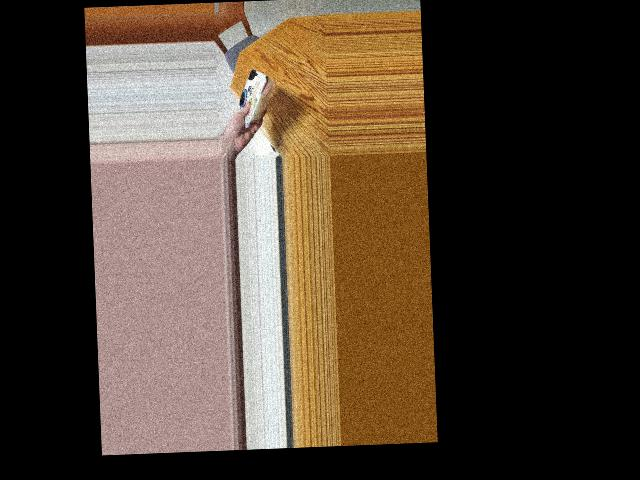cheese: (229, 71, 275, 120)
